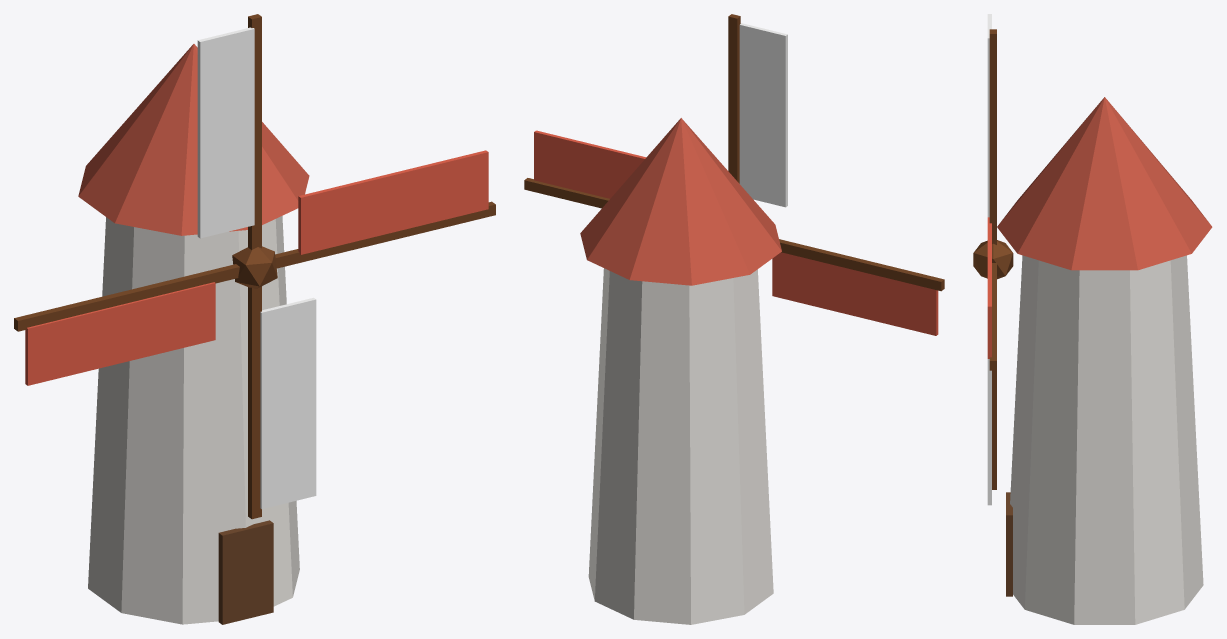
The model's file is Windmill.fbx.
3 renders of one model, left to right at view 1: azimuth 30°, elevation 25°; view 2: azimuth 150°, elevation 25°; view 3: azimuth 270°, elevation 25°, orthographic. The views are drawn at different scales.
Visible parts, largest first — view 1: Windmill; view 2: Windmill; view 3: Windmill.
Boxes of the visible parts, x1,y1,x2,y2 form: Windmill: (14, 14, 495, 624); Windmill: (524, 14, 944, 624); Windmill: (973, 14, 1212, 624).
Bounding box in the file's own units: 28 × 34 × 13.31.
Materials: 1 (1 with a texture image).
